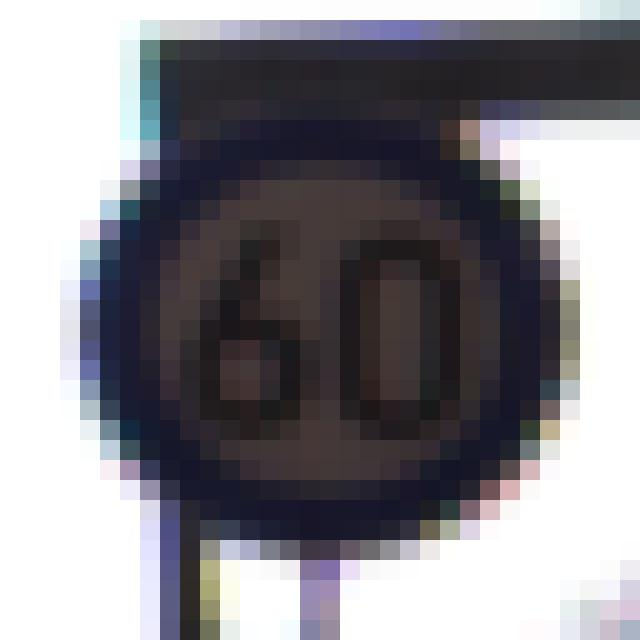SPEED-LIMIT-60: (57, 103, 588, 582)
